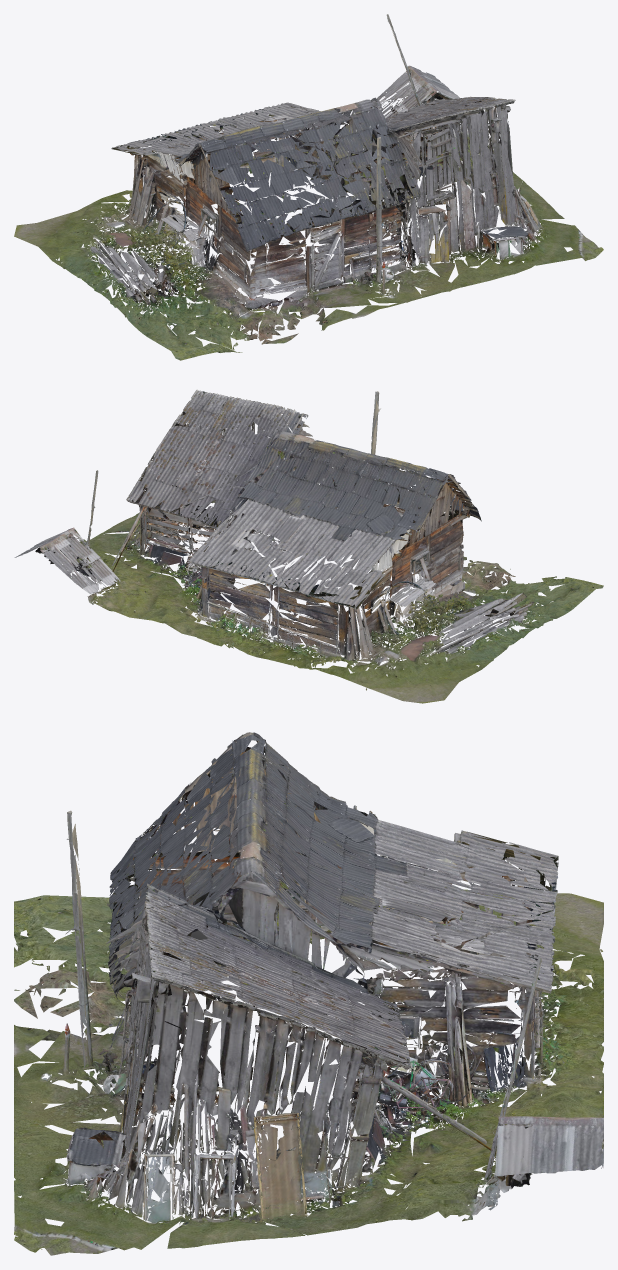
The model's file is storage_unit.glb.
3 views of the same model, one above another, from view 1: azimuth 30°, elevation 25°; view 2: azimuth 150°, elevation 25°; view 3: azimuth 270°, elevation 25° (orthographic). The views are drawn at different scales.
Visible parts, largest first — view 1: Object_2, Object_3, Object_5, Object_4, Object_11, Object_8, Object_6, Object_10, Object_9, Object_13, Object_7, Object_12 (+1 smaller); view 2: Object_2, Object_3, Object_9, Object_5, Object_10, Object_8, Object_4, Object_11, Object_6, Object_13, Object_12, Object_14 (+1 smaller); view 3: Object_2, Object_3, Object_9, Object_8, Object_12, Object_6, Object_10, Object_5, Object_4, Object_13, Object_7, Object_11 (+1 smaller).
Part boxes in pixels (bbox=[...]): Object_2: bbox=[14, 25, 603, 360]; Object_3: bbox=[91, 97, 571, 349]; Object_5: bbox=[113, 97, 518, 340]; Object_4: bbox=[100, 84, 499, 350]; Object_11: bbox=[124, 106, 519, 329]; Object_8: bbox=[57, 14, 564, 343]; Object_6: bbox=[97, 81, 542, 303]; Object_10: bbox=[155, 96, 494, 286]; Object_9: bbox=[89, 97, 537, 350]; Object_13: bbox=[94, 80, 542, 296]; Object_7: bbox=[115, 101, 599, 281]; Object_12: bbox=[111, 85, 521, 346]; Object_2: bbox=[15, 389, 603, 703]; Object_3: bbox=[119, 404, 567, 661]; Object_9: bbox=[125, 428, 563, 667]; Object_5: bbox=[96, 414, 524, 651]; Object_10: bbox=[142, 391, 474, 608]; Object_8: bbox=[35, 398, 553, 690]; Object_4: bbox=[60, 469, 556, 672]; Object_11: bbox=[196, 402, 516, 652]; Object_6: bbox=[58, 394, 475, 646]; Object_13: bbox=[58, 401, 469, 648]; Object_12: bbox=[65, 411, 529, 620]; Object_14: bbox=[171, 470, 476, 648]; Object_2: bbox=[14, 734, 603, 1255]; Object_3: bbox=[14, 862, 561, 1224]; Object_9: bbox=[25, 870, 593, 1223]; Object_8: bbox=[14, 812, 603, 1248]; Object_12: bbox=[46, 783, 558, 1222]; Object_6: bbox=[17, 856, 566, 1223]; Object_10: bbox=[65, 732, 554, 1169]; Object_5: bbox=[44, 735, 560, 1207]; Object_4: bbox=[16, 741, 593, 1195]; Object_13: bbox=[45, 862, 567, 1224]; Object_7: bbox=[37, 789, 554, 1249]; Object_11: bbox=[40, 732, 560, 1177].
Size of the model in its own units: 14.83 by 5.49 by 10.41.
2 materials, 2 textured.
